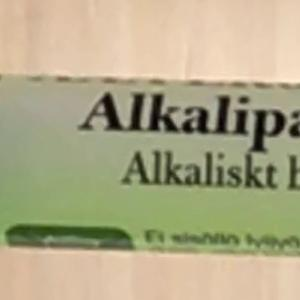ALK: (48, 70, 171, 91)
